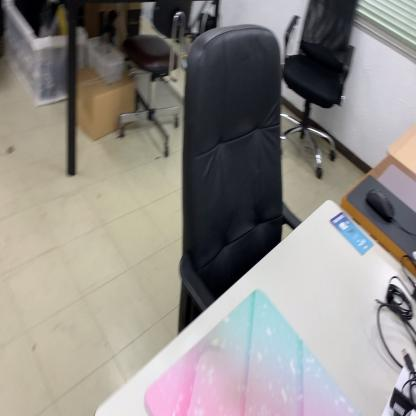chair: (178, 22, 304, 334), (278, 0, 358, 183), (113, 0, 198, 164)
